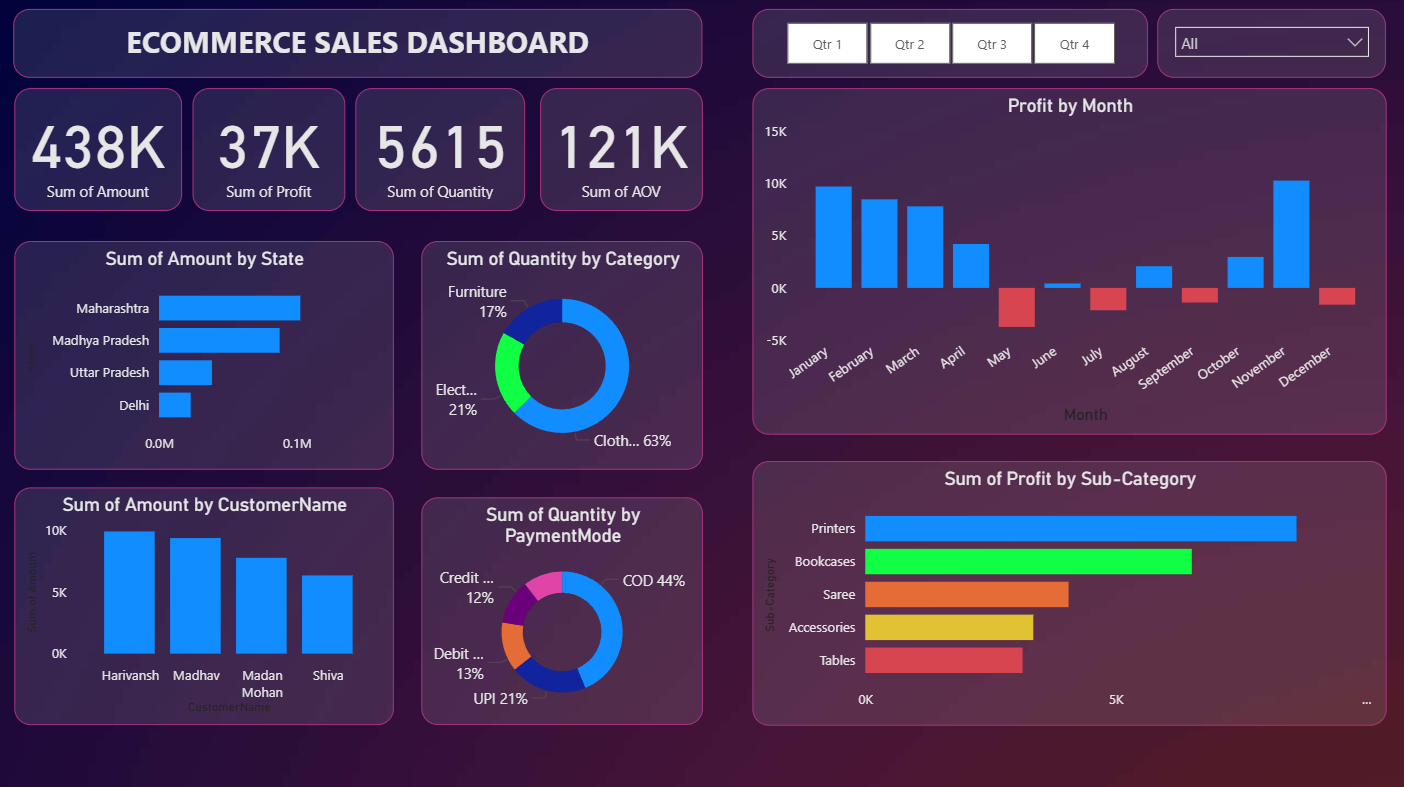

Layout of this report page (visuals, bound fields, positions):
{"tool":"powerbi","page":{"name":"Page 1","canvas":[1280,720],"ordinal":0},"visuals":[{"type":"textbox","box":[12.3,9,627.3,62.7],"z":0},{"type":"columnChart","title":"Profit by Month","fields":{"Y":["Details.Profit"],"Category":["Orders.Order Date.Variation.Date Hierarchy.Month"]},"box":[684.4,80.6,576.9,315.9],"z":1000},{"type":"barChart","fields":{"Category":["Details.Sub-Category"],"Y":["Details.Profit"]},"box":[684.4,420.1,576.9,240.8],"z":2000},{"type":"donutChart","fields":{"Category":["Details.Category"],"Y":["Details.Quantity"]},"box":[383.1,220.7,256.5,208.3],"z":3000},{"type":"donutChart","fields":{"Y":["Details.Quantity"],"Category":["Details.PaymentMode"]},"box":[383.1,453.7,256.5,207.2],"z":4000},{"type":"card","fields":{"Values":["Details.Amount"]},"box":[13.4,80.6,152.3,112],"z":5000},{"type":"card","fields":{"Values":["Details.Profit"]},"box":[174.7,80.6,138.9,112],"z":6000},{"type":"card","fields":{"Values":["Details.Quantity"]},"box":[323.7,80.6,154.6,112],"z":7000},{"type":"card","fields":{"Values":["Details.AOV"]},"box":[491.7,80.6,147.9,112],"z":8000},{"type":"barChart","fields":{"Category":["Orders.State"],"Y":["Details.Amount"]},"box":[13.4,220.7,345,208.3],"z":9000},{"type":"columnChart","fields":{"Category":["Orders.CustomerName"],"Y":["Details.Amount"]},"box":[13.4,444.7,345,216.2],"z":10000},{"type":"slicer","fields":{"Values":["Orders.Order Date.Variation.Date Hierarchy.Quarter"]},"box":[684.4,9,359.6,62.7],"z":11000},{"type":"slicer","fields":{"Values":["Orders.State"]},"box":[1052.9,9,208.3,62.7],"z":12000}]}

Visuals, with their boxes in screenshot pixels (x1, y1, x2, y2), scaled from the page's 1280x720 canvas onto the 1404x787 screenshot:
textbox: bbox=[13, 10, 702, 78]
"Profit by Month" columnChart: bbox=[751, 88, 1383, 433]
barChart - Details.Sub-Category x Details.Profit: bbox=[751, 459, 1383, 722]
donutChart - Details.Category x Details.Quantity: bbox=[420, 241, 702, 469]
donutChart - Details.Quantity x Details.PaymentMode: bbox=[420, 496, 702, 722]
card - Details.Amount: bbox=[15, 88, 182, 211]
card - Details.Profit: bbox=[192, 88, 344, 211]
card - Details.Quantity: bbox=[355, 88, 525, 211]
card - Details.AOV: bbox=[539, 88, 702, 211]
barChart - Orders.State x Details.Amount: bbox=[15, 241, 393, 469]
columnChart - Orders.CustomerName x Details.Amount: bbox=[15, 486, 393, 722]
slicer - Orders.Order Date.Variation.Date Hierarchy.Quarter: bbox=[751, 10, 1145, 78]
slicer - Orders.State: bbox=[1155, 10, 1383, 78]
